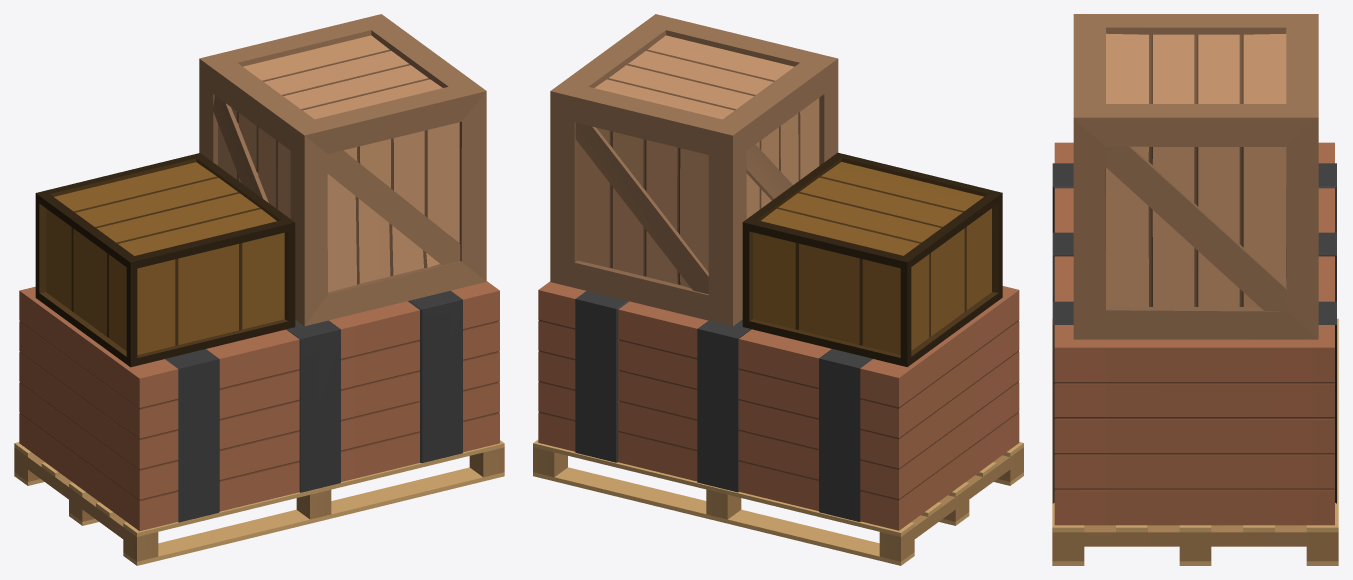
File: Pallet Of Boxes #3.fbx
The picture shows the model from 3 angles, left to right: view 1: azimuth 30°, elevation 25°; view 2: azimuth 150°, elevation 25°; view 3: azimuth 270°, elevation 25°; orthographic projection. The views are drawn at different scales.
Visible parts, largest first — view 1: Pallet Of Boxes #3; view 2: Pallet Of Boxes #3; view 3: Pallet Of Boxes #3.
Boxes of the visible parts, x1,y1,x2,y2 form: Pallet Of Boxes #3: [14, 14, 504, 565]; Pallet Of Boxes #3: [533, 14, 1023, 565]; Pallet Of Boxes #3: [1052, 14, 1338, 565].
Size of the model in its own units: 509 by 297 by 514.
1 material, 1 textured.
